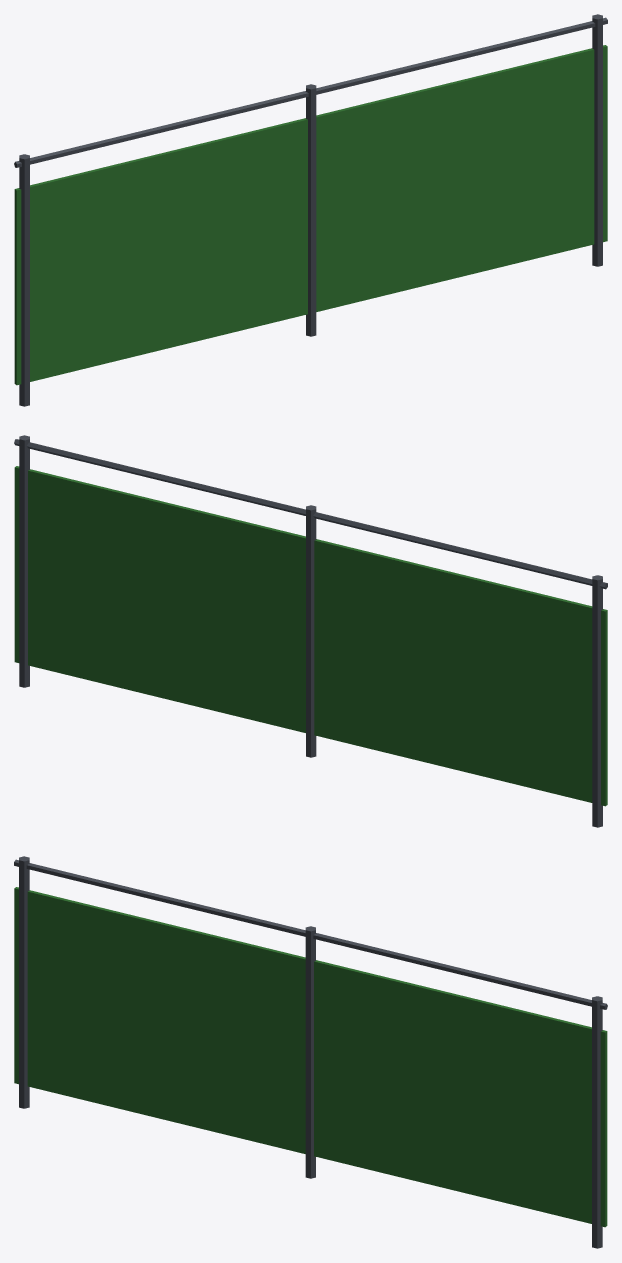
The model's file is Windscreen_20.glb.
3 renders of one model, top to bottom at view 1: azimuth 30°, elevation 25°; view 2: azimuth 150°, elevation 25°; view 3: azimuth 330°, elevation 25°, orthographic.
Parts seen in each view (by area): view 1: Windscreen_20; view 2: Windscreen_20; view 3: Windscreen_20.
Boxes of the visible parts, box(x1,y1,x2,y2) form: Windscreen_20: box(14, 14, 607, 406); Windscreen_20: box(14, 435, 607, 827); Windscreen_20: box(14, 856, 607, 1248).
Size of the model in its own units: 20 by 8 by 0.3118.
1 material, 1 textured.
